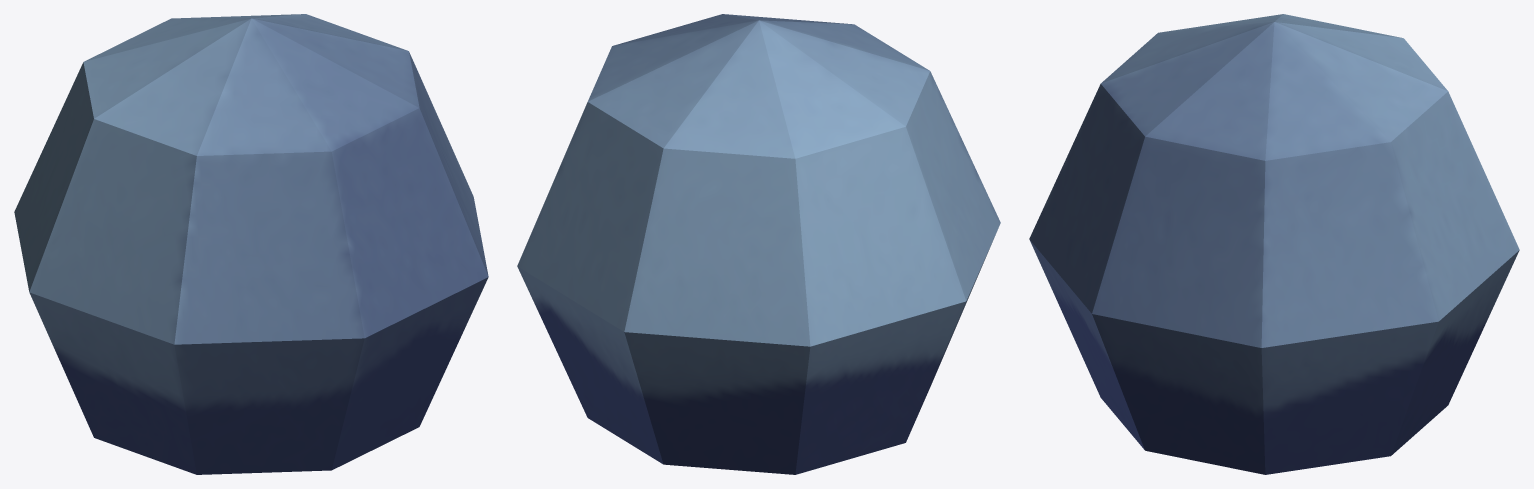
Rendered from Clam_02.FBX.
3 renders of one model, left to right at view 1: azimuth 30°, elevation 25°; view 2: azimuth 150°, elevation 25°; view 3: azimuth 270°, elevation 25°, orthographic.
Visible parts, largest first — view 1: Clam_02; view 2: Clam_02; view 3: Clam_02.
Part boxes in pixels (bbox=[...]): Clam_02: bbox=[14, 14, 488, 474]; Clam_02: bbox=[517, 14, 1000, 474]; Clam_02: bbox=[1029, 14, 1519, 474].
Bounding box in the file's own units: 1.67 × 1.68 × 1.67.
